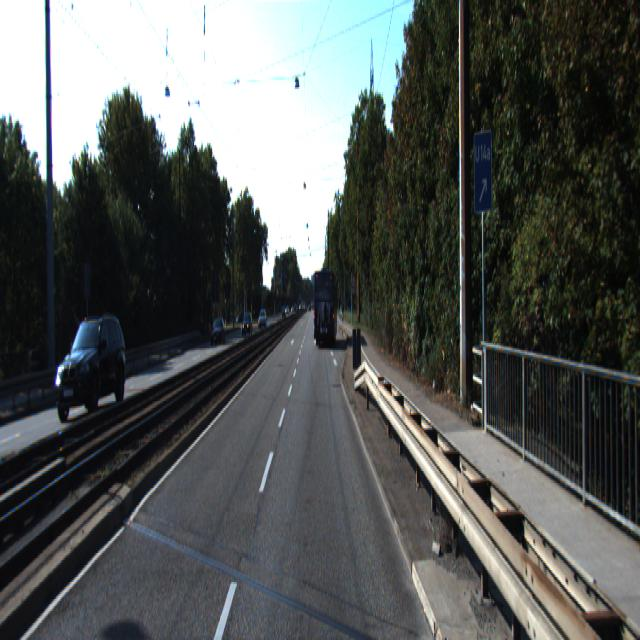Car: (54, 315, 128, 426), (314, 270, 338, 348)
